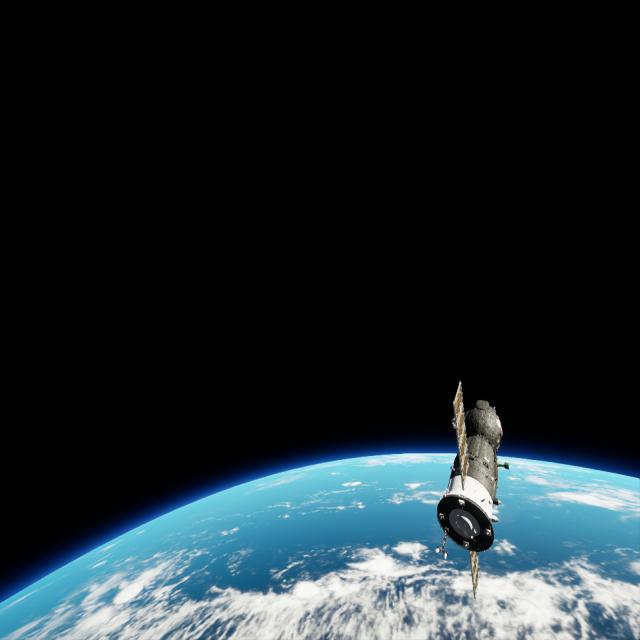Satellites revolving around earth: (1, 449, 639, 638), (434, 378, 508, 600)
